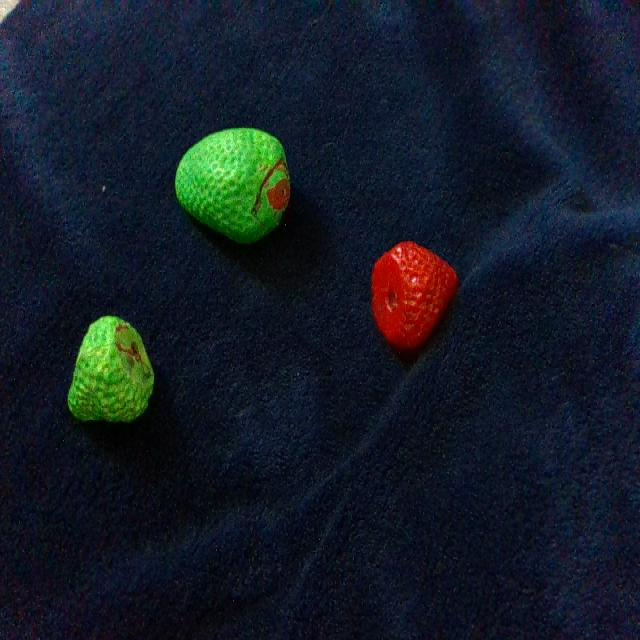chica_roja: (372, 241, 458, 349)
verde: (176, 128, 290, 243), (68, 316, 154, 421)
